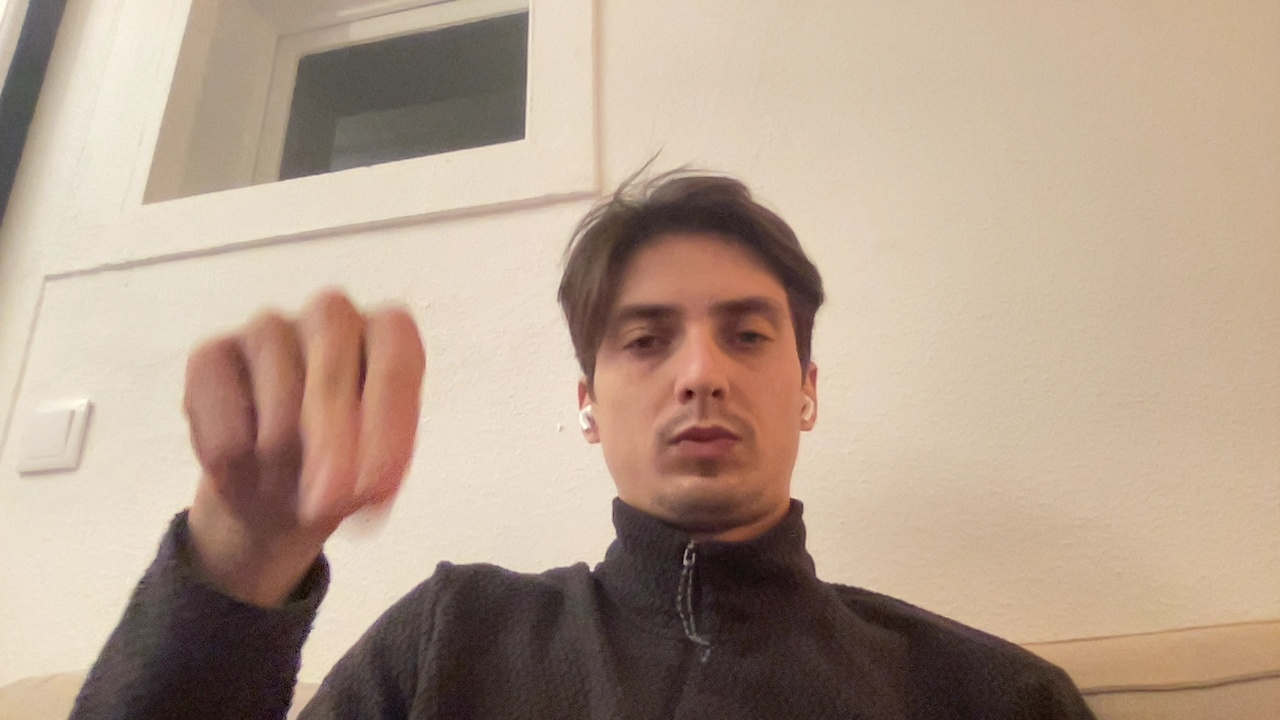no: (114, 152, 499, 620)
